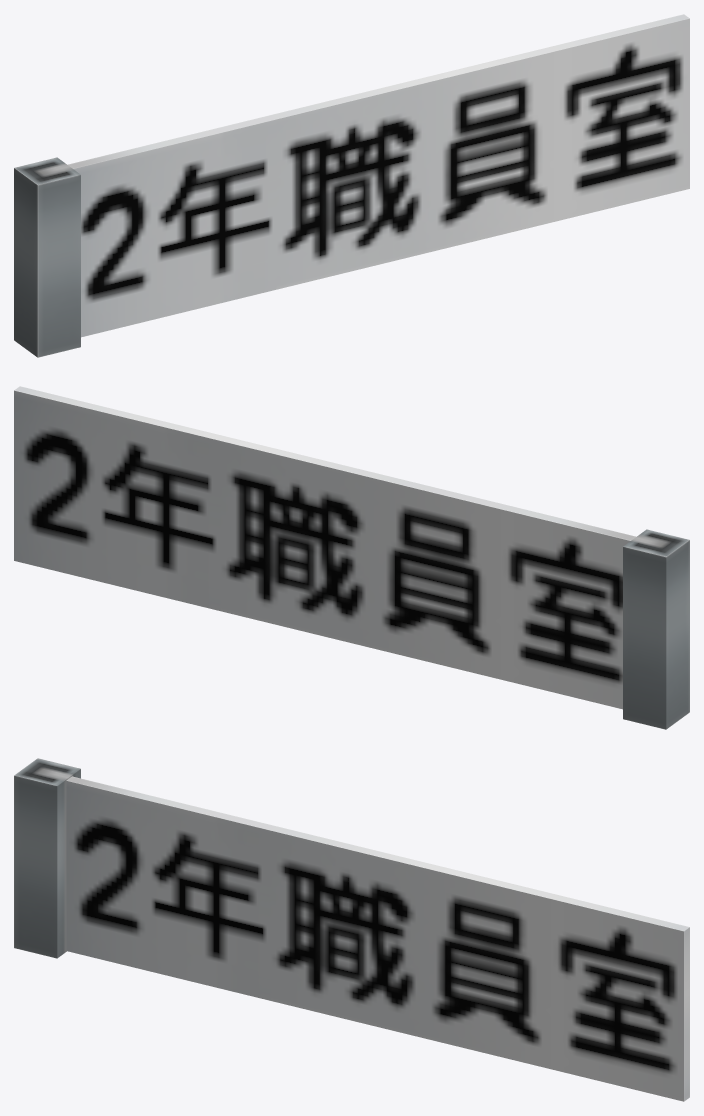
Rendered from SHW_NamePlate_01_02_Teachers_room01.fbx.
3 renders of one model, top to bottom at view 1: azimuth 30°, elevation 25°; view 2: azimuth 150°, elevation 25°; view 3: azimuth 330°, elevation 25°, orthographic.
Visible parts, largest first — view 1: shw_nameplate_01_02_teachers_room01; view 2: shw_nameplate_01_02_teachers_room01; view 3: shw_nameplate_01_02_teachers_room01.
Part boxes in pixels (x1=…): shw_nameplate_01_02_teachers_room01: x1=14, y1=14, x2=689, y2=357; shw_nameplate_01_02_teachers_room01: x1=14, y1=386, x2=689, y2=729; shw_nameplate_01_02_teachers_room01: x1=14, y1=758, x2=689, y2=1101.
Bounding box in the file's own units: 32.1 × 8 × 2.
